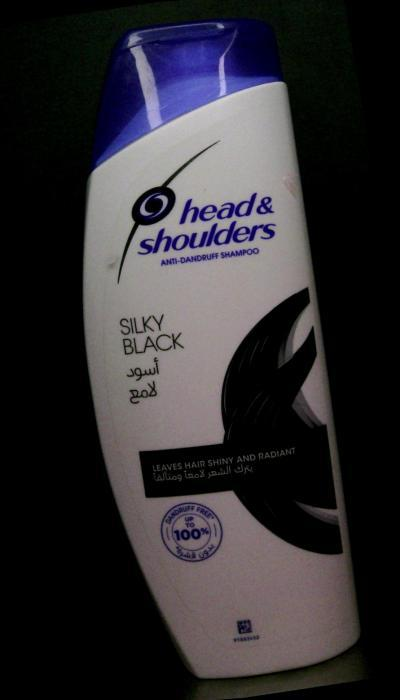tear_unacc: (93, 234, 135, 292)
